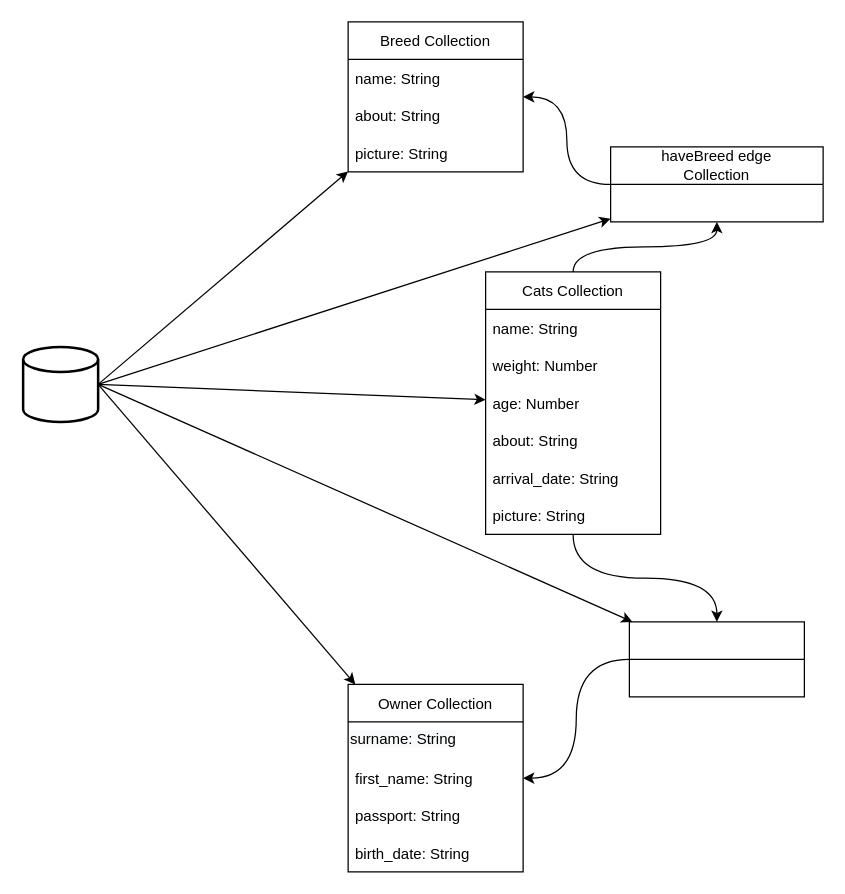
Image size: 845x894. Some labels were removed from this diagram. Here are the shapes that lost their labels. From the top down, the centre of each, then its label:
[60,383]: Database
[716,659]: hasOwner edge Collection
